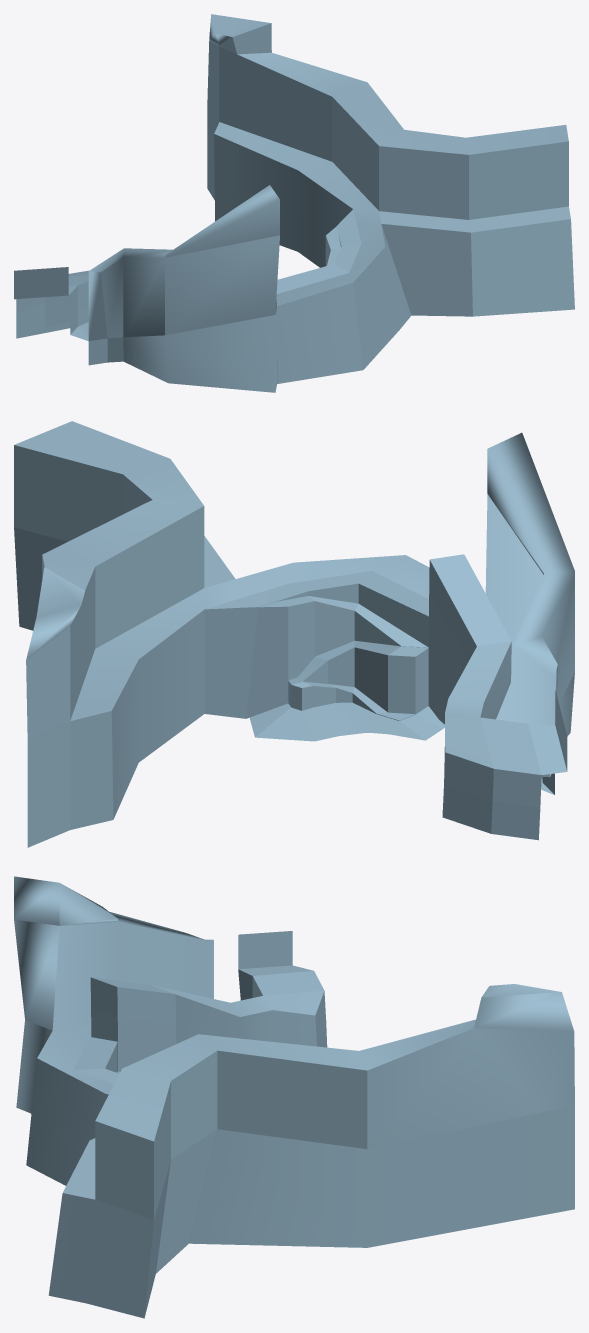
The model's file is terrain_W2A5.fbx.
3 renders of one model, top to bottom at view 1: azimuth 30°, elevation 25°; view 2: azimuth 150°, elevation 25°; view 3: azimuth 270°, elevation 25°, orthographic. The views are drawn at different scales.
Parts seen in each view (by area): view 1: W2A5_mesh; view 2: W2A5_mesh; view 3: W2A5_mesh.
Boxes of the visible parts, x1,y1,x2,y2 form: W2A5_mesh: [14, 14, 574, 392]; W2A5_mesh: [14, 421, 574, 847]; W2A5_mesh: [14, 876, 574, 1318].
Bounding box in the file's own units: 42224 × 16294 × 34274.
